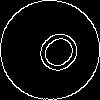O: (25, 25, 86, 86)
